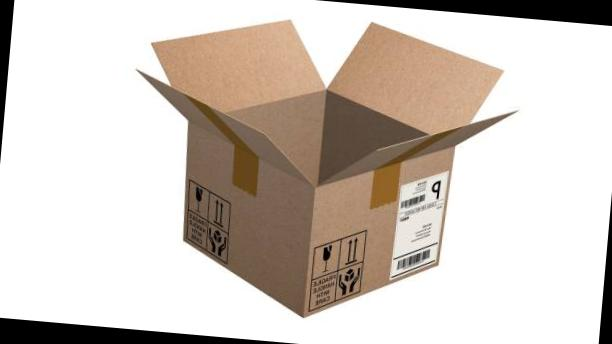cardboard: (136, 0, 537, 316)
